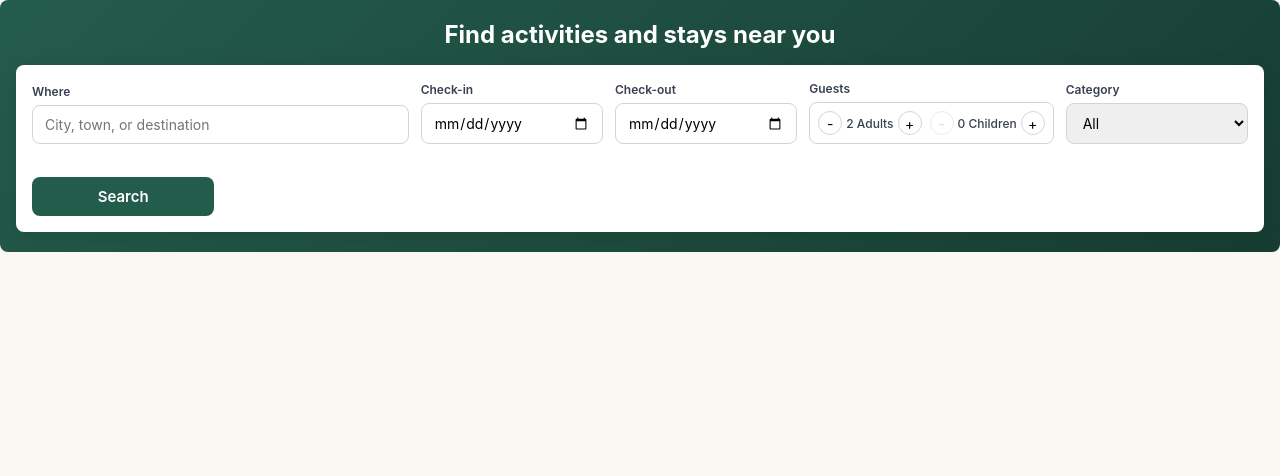
Test: SearchHero - Compact Layout › displays recent searches when provided
Focus the field labelled "Where" at (220,124), box [32,105,409,144]
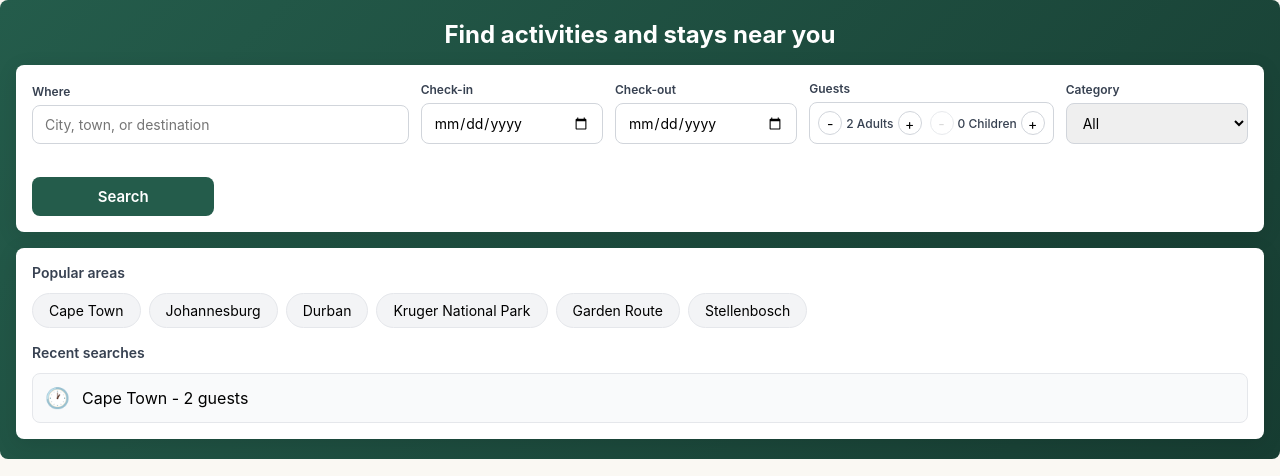
Check: the heading "Recent searches" is shown, box [32,344,145,361]
Check: the text "Cape Town - 2 guests" is shown, box [82,388,248,408]
